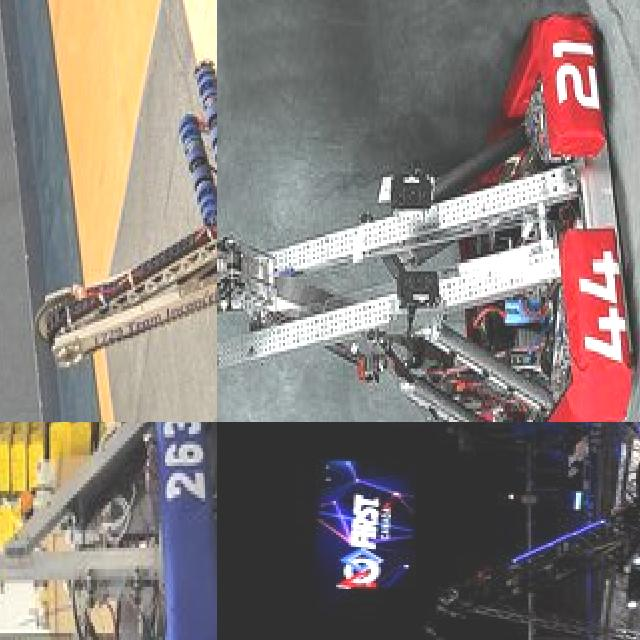FRC-Robots: (217, 0, 637, 422), (19, 0, 217, 422), (0, 422, 217, 640), (429, 422, 640, 640)
